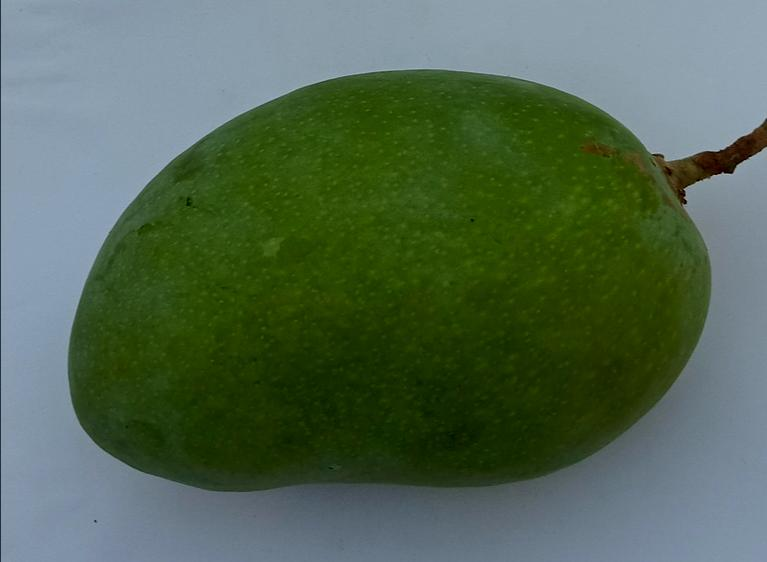Mango Unripe: (38, 22, 767, 511)
